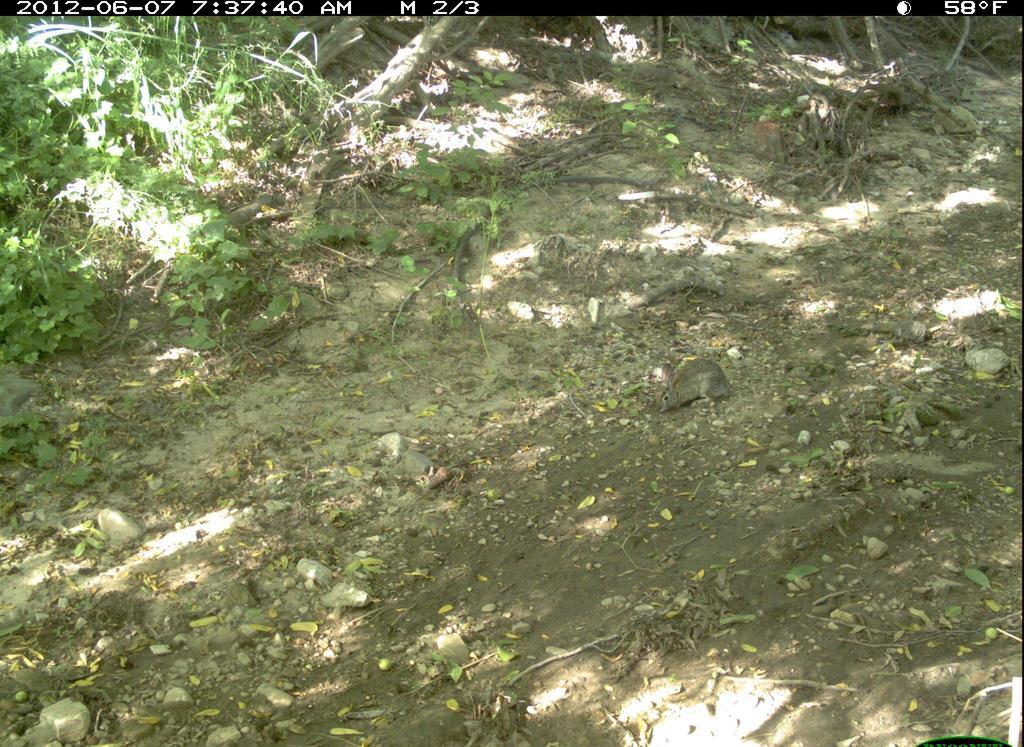rabbit: (638, 333, 749, 425)
